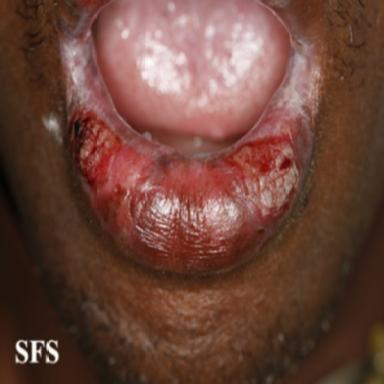lichen: (56, 0, 324, 256)
